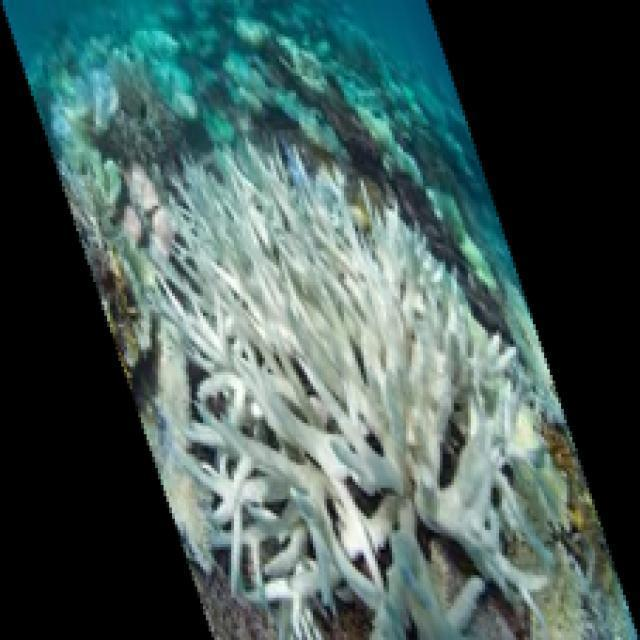Bleached: (154, 140, 536, 640), (140, 315, 216, 574)
